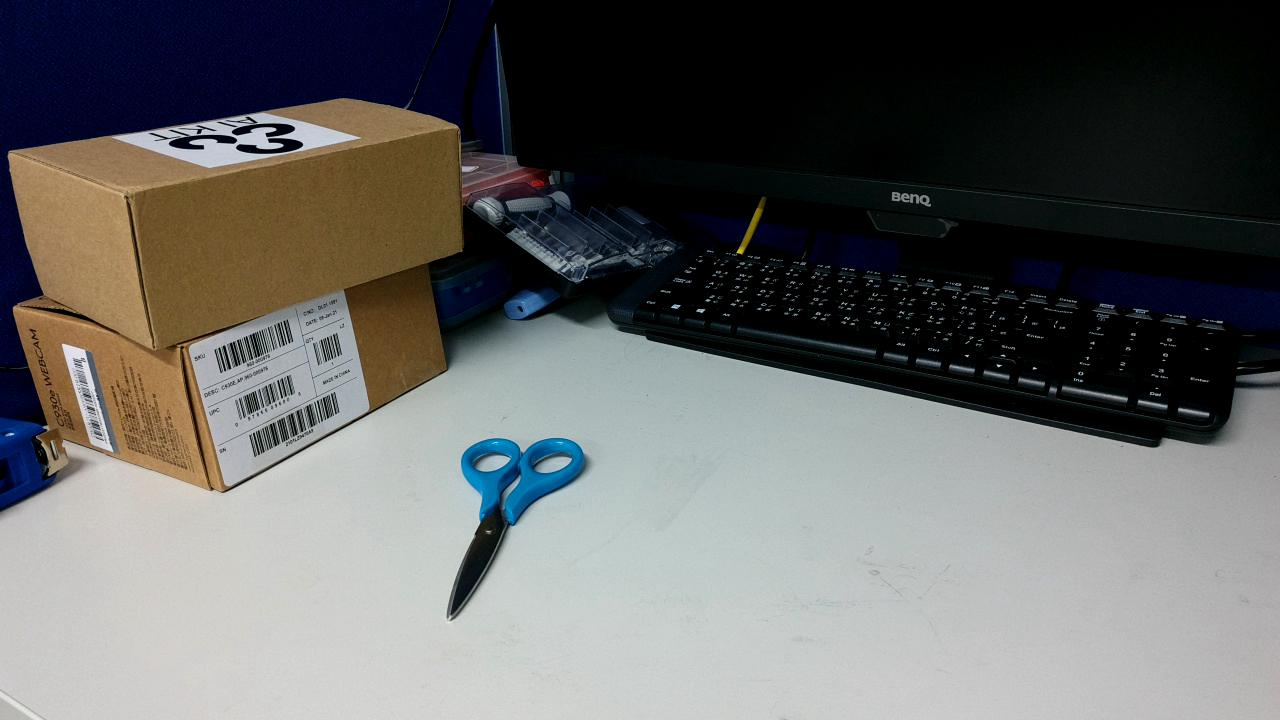columnar: (1123, 204, 1266, 448)
